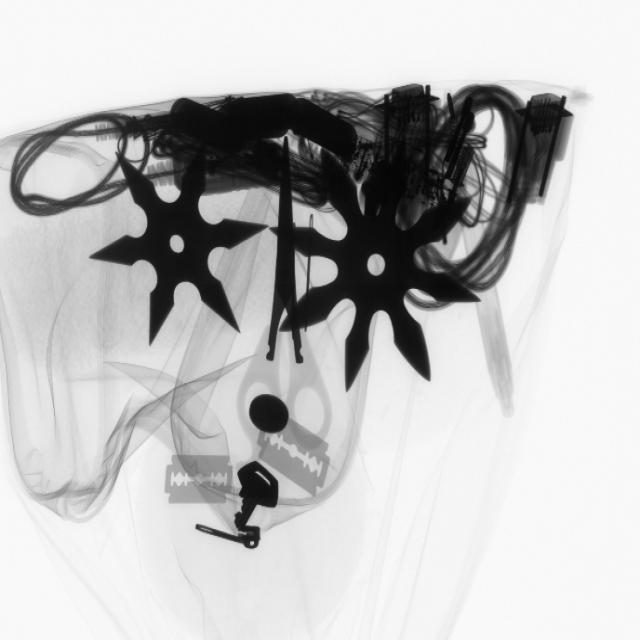BLADE: (250, 415, 339, 504), (159, 447, 241, 514)
SHURIKEN: (288, 149, 475, 391), (96, 148, 263, 350)
